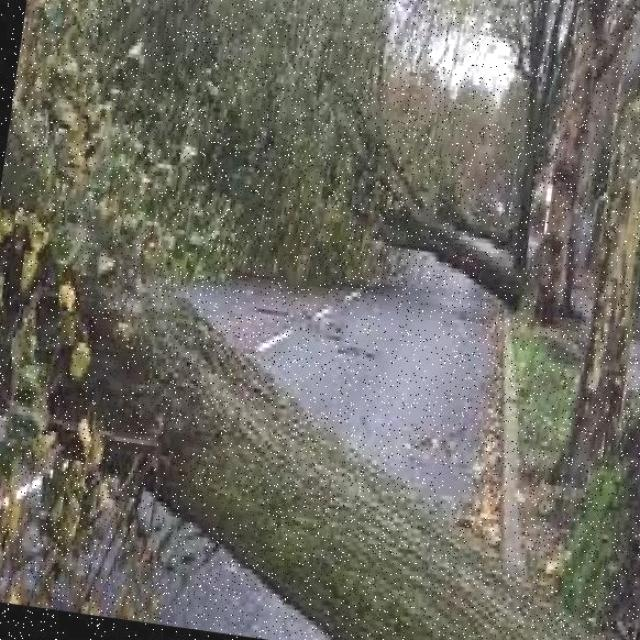fallen_object: (186, 53, 556, 333)
